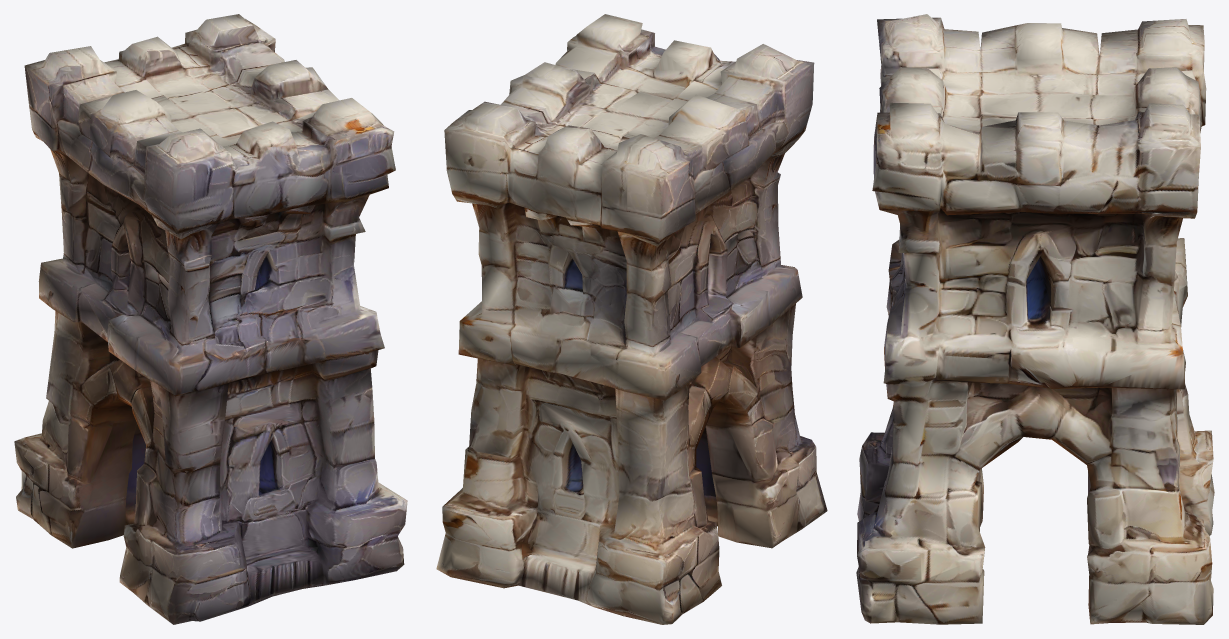
The model's file is RuinedArch.fbx.
The picture shows the model from 3 angles, left to right: view 1: azimuth 30°, elevation 25°; view 2: azimuth 150°, elevation 25°; view 3: azimuth 270°, elevation 25°; orthographic projection. The views are drawn at different scales.
Parts seen in each view (by area): view 1: tripo_node_dc554721-089e-4d0e-ba94-a739d4cdca65; view 2: tripo_node_dc554721-089e-4d0e-ba94-a739d4cdca65; view 3: tripo_node_dc554721-089e-4d0e-ba94-a739d4cdca65.
Boxes of the visible parts, left/top/right/bottom form: tripo_node_dc554721-089e-4d0e-ba94-a739d4cdca65: left=14, top=14, right=407, bottom=624; tripo_node_dc554721-089e-4d0e-ba94-a739d4cdca65: left=436, top=14, right=827, bottom=624; tripo_node_dc554721-089e-4d0e-ba94-a739d4cdca65: left=856, top=14, right=1214, bottom=624.
Bounding box in the file's own units: 53.65 × 100 × 64.41.
1 material, 1 textured.
